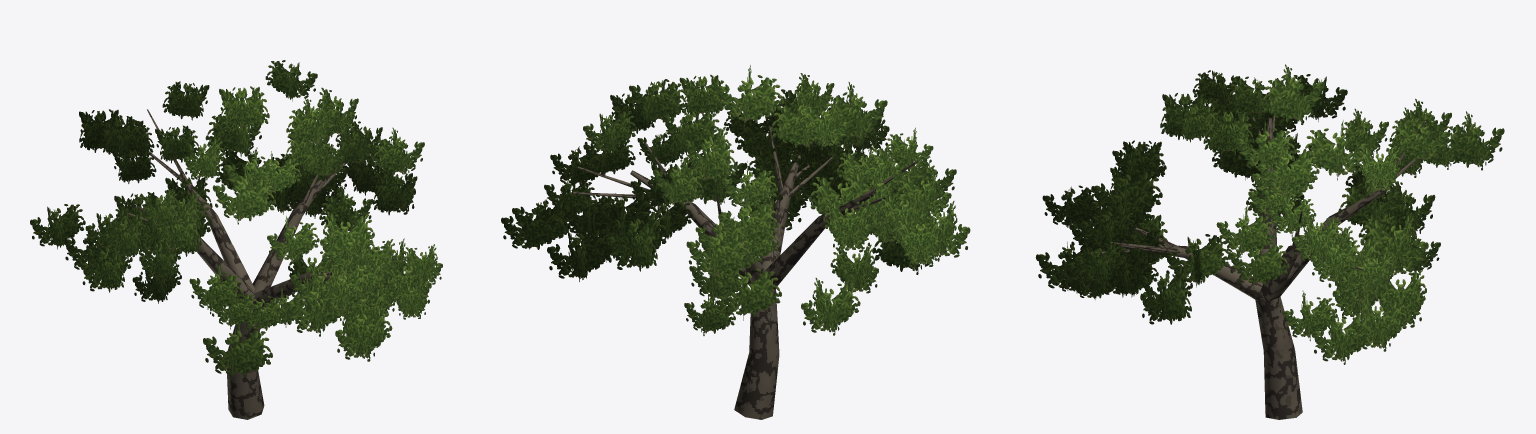
The model's file is oak1_lod0.fbx.
3 views of the same model, side by side, from view 1: azimuth 30°, elevation 25°; view 2: azimuth 150°, elevation 25°; view 3: azimuth 270°, elevation 25° (orthographic). The views are drawn at different scales.
Visible parts, largest first — view 1: oak1_lod0; view 2: oak1_lod0; view 3: oak1_lod0.
Part boxes in pixels (left/top/right/bottom): oak1_lod0: left=30, top=60, right=442, bottom=419; oak1_lod0: left=501, top=65, right=970, bottom=419; oak1_lod0: left=1035, top=64, right=1504, bottom=419.
Size of the model in its own units: 11.11 by 9.09 by 10.87.
2 materials, 2 textured.
